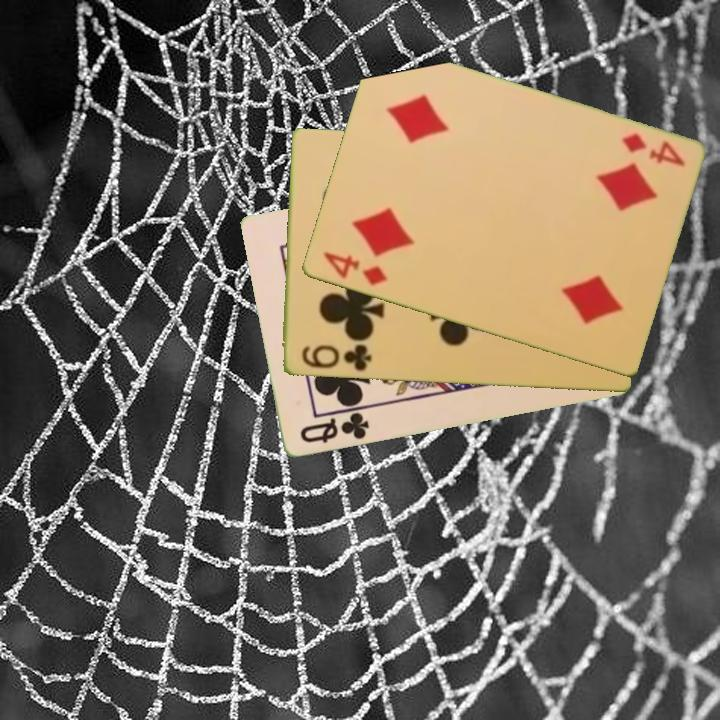4d: (319, 248, 390, 289), (618, 129, 688, 170)
6c: (297, 341, 374, 375)
Qc: (296, 409, 372, 447)
